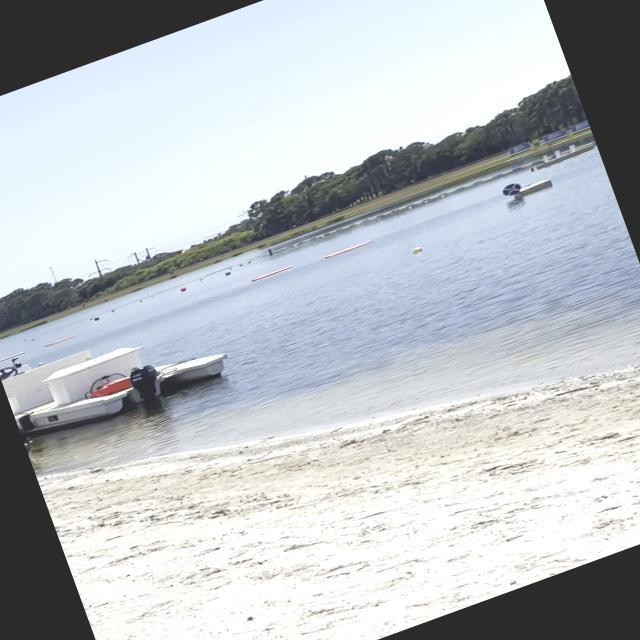buoy: (412, 246, 423, 253), (225, 270, 232, 276), (180, 287, 187, 292)
